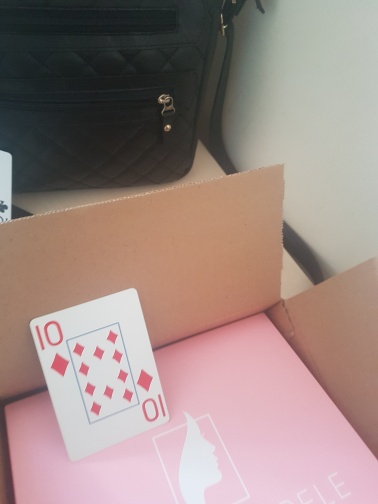ten: (28, 288, 169, 460)
